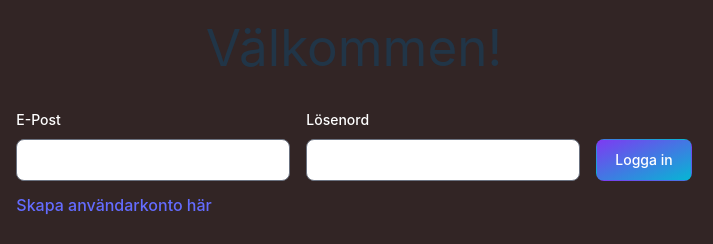
Test case: login › Ska misslyckas att logga in när ingen email är ifylld
The width and height of the screenshot is (713, 244).
Type "testuser123" into the password field with test id "password". click: (443, 160)
box: [306,139,580,181]
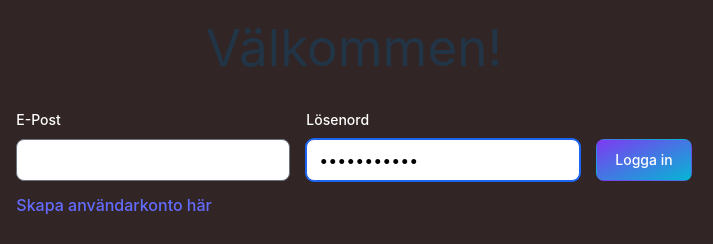
Click the button with test id "loginSubmit". click: click(644, 160)
box: [596,139,691,181]
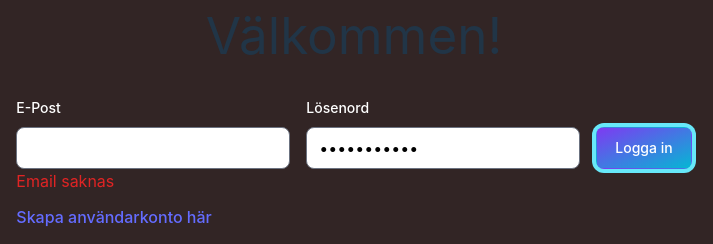
Result: the text "Email saknas" is shown at [16,171,114,191]
